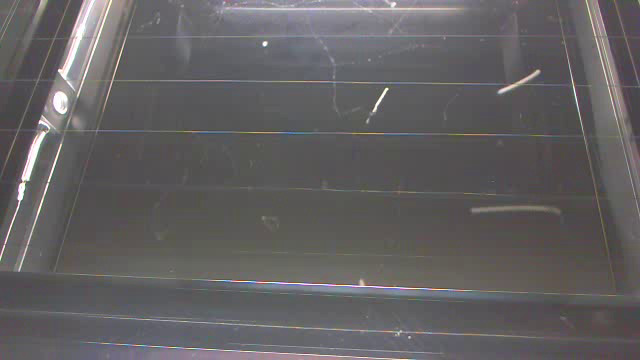alpha: (467, 202, 565, 223), (495, 68, 542, 97), (375, 88, 389, 118)
